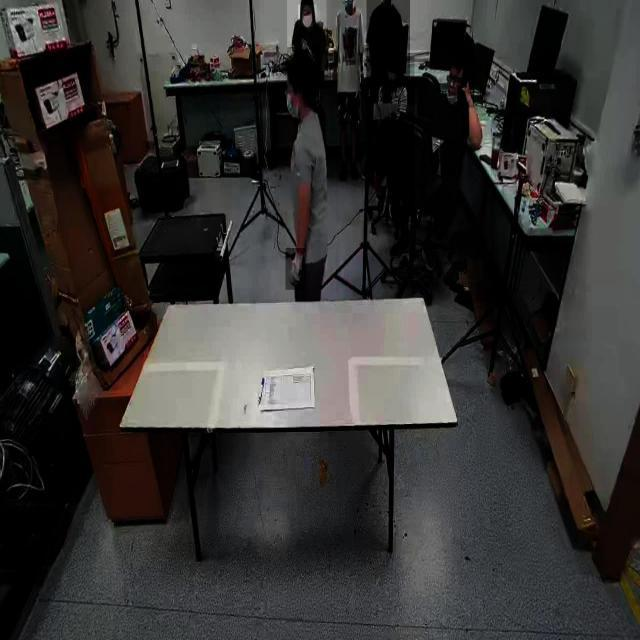gloves: (286, 248, 304, 291)
